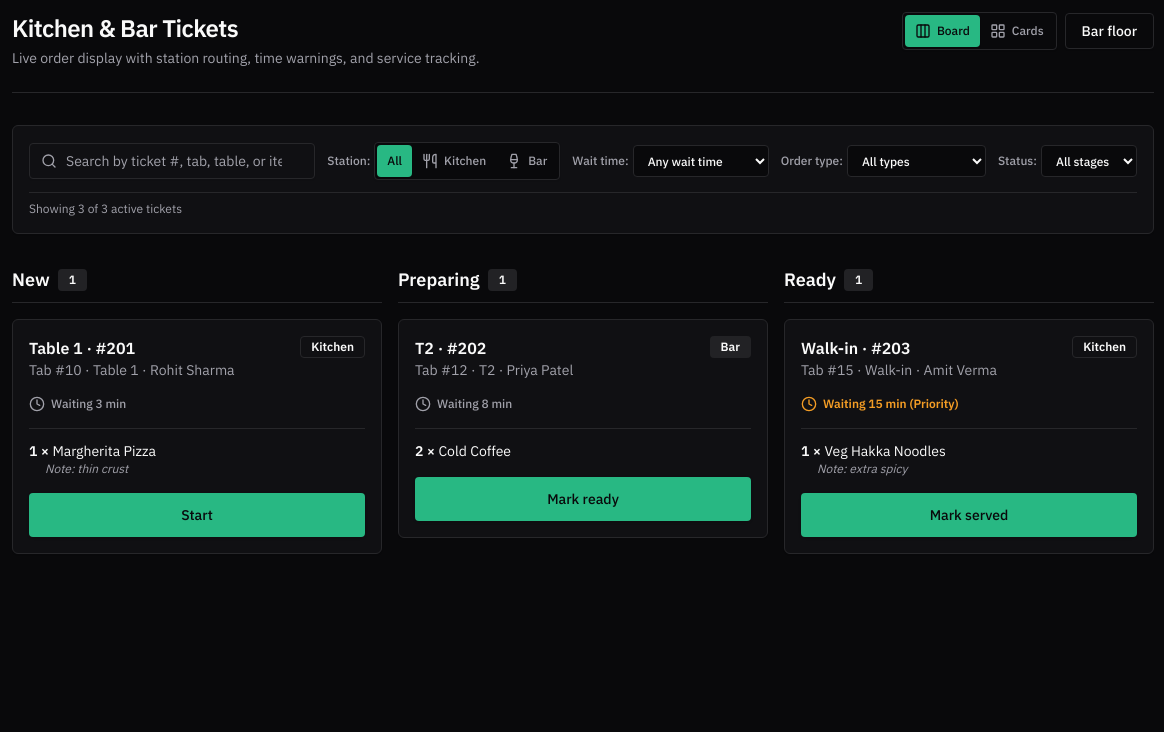
Test: Kitchen & Bar Display Page (Issue #79) › filters by wait time and highlights urgent tickets
Expected: the text "Margherita Pizza" is shown, [52, 442, 156, 460]
# Filter over 10 min (urgent)
Select "10+ min (Urgent)" in the dropdown named "Filter by wait time" at coordinates (701, 161), box [633, 145, 769, 177]
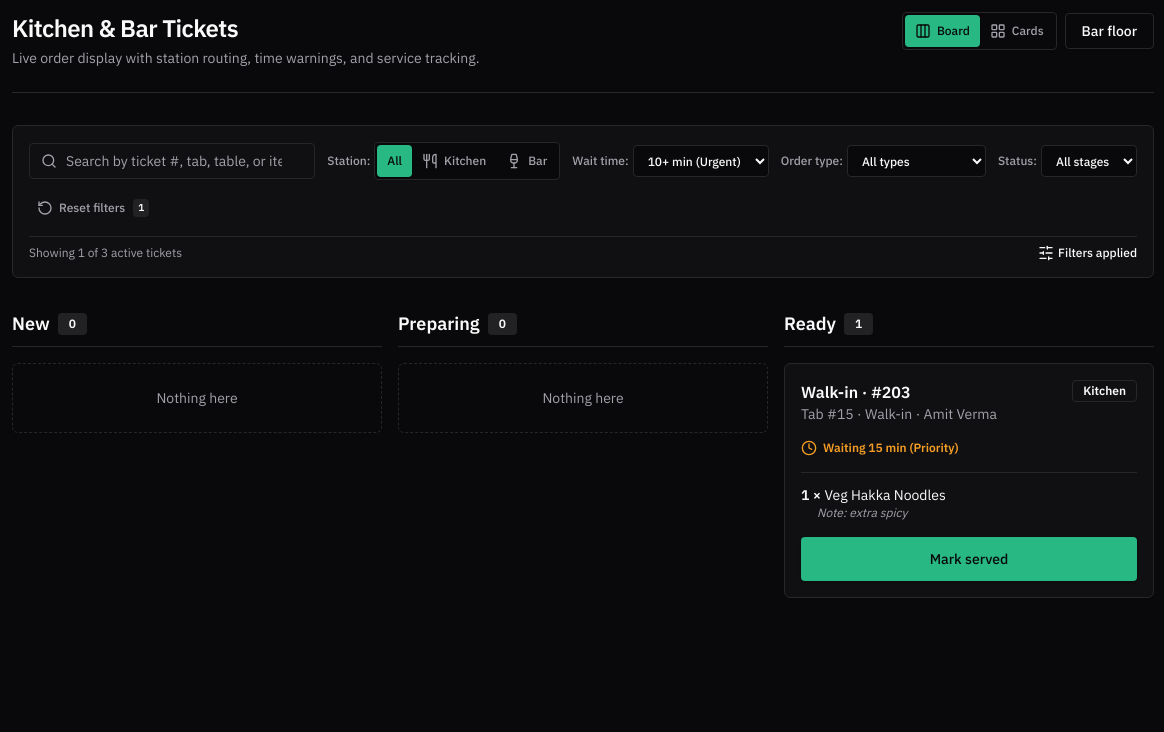
Expected: the text "Veg Hakka Noodles" is shown, [824, 486, 946, 504]
Expected: the text "Margherita Pizza" is gone
Expected: the text "Cold Coffee" is gone
